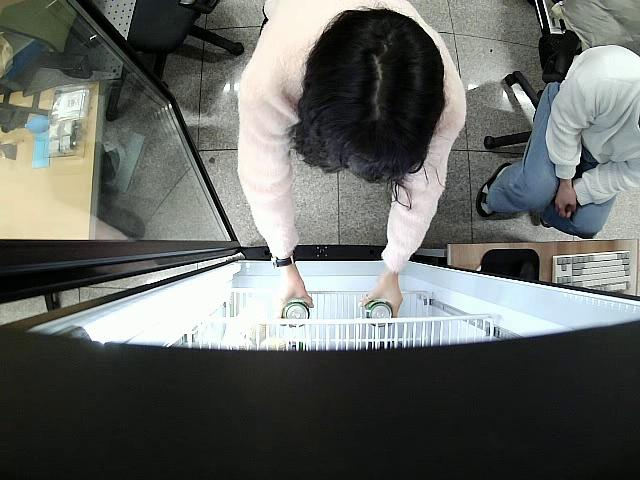00_hand: (358, 277, 403, 329), (275, 269, 315, 323)
12_chilsungCider: (361, 297, 393, 329), (279, 299, 309, 330)
